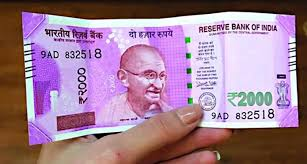twoThousand: (42, 40, 289, 113)
